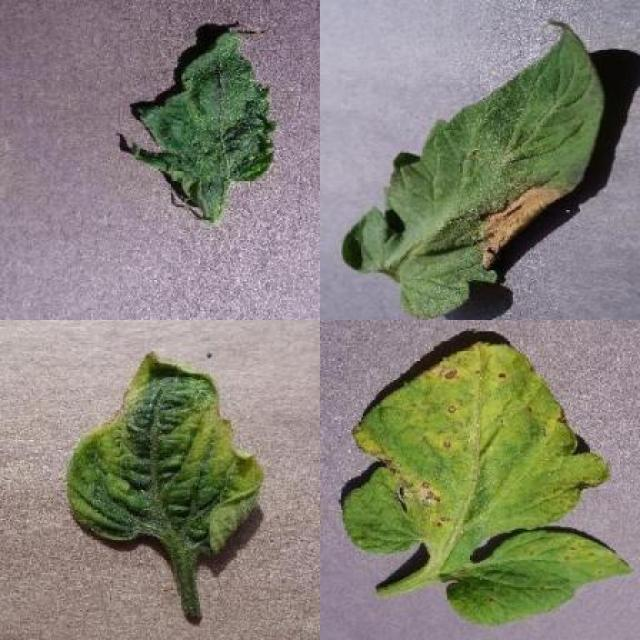Late Blight: (338, 16, 603, 320)
Mosaic Virus: (127, 24, 280, 215)
Septoria: (341, 341, 610, 556), (446, 528, 634, 628)
Yellow Leaf Curl Virus: (68, 348, 266, 556)
